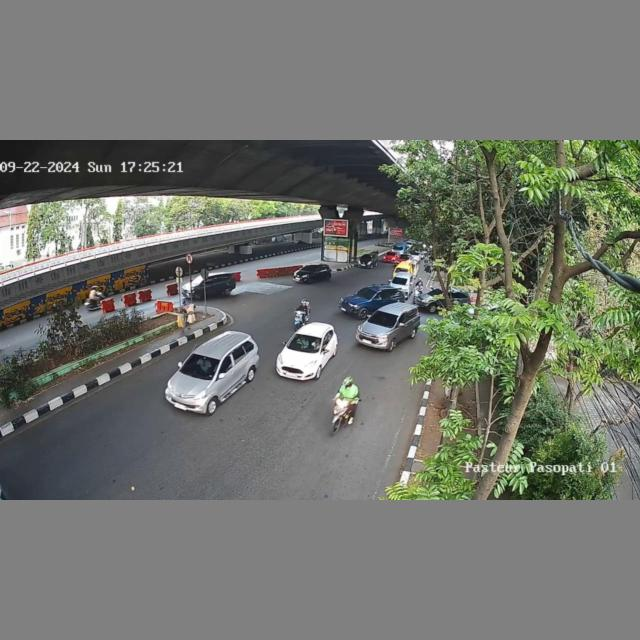windshield: (178, 351, 221, 382), (287, 332, 323, 353), (367, 310, 399, 328), (357, 285, 378, 299)
